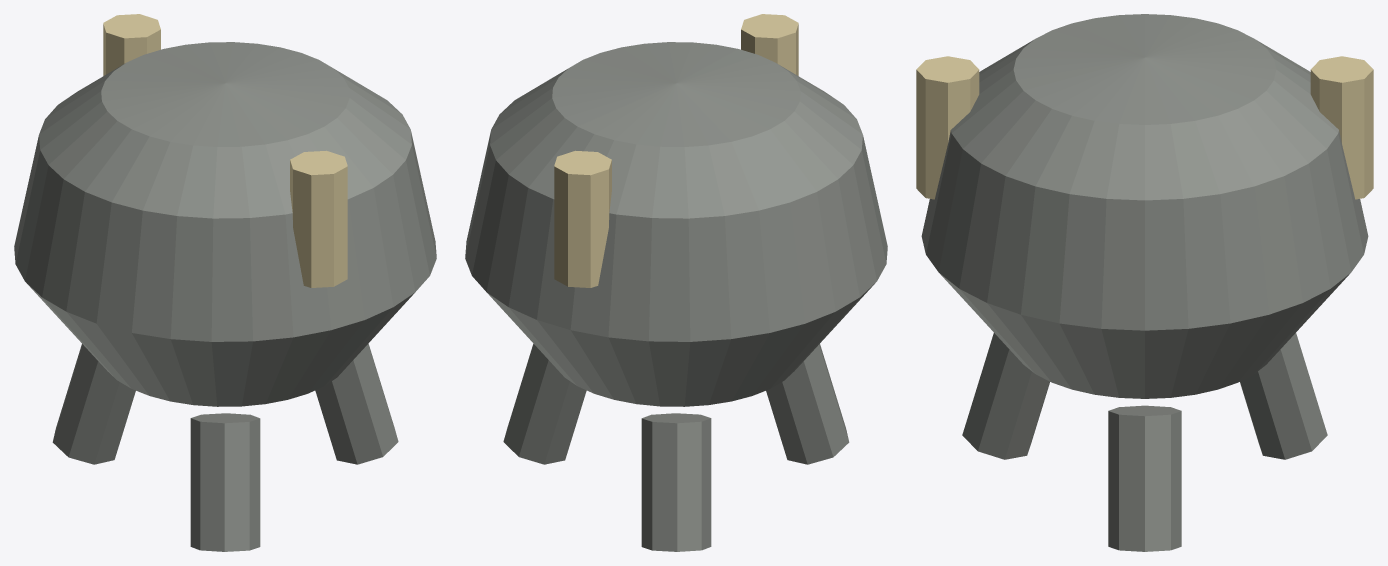
File: prop_bronze_incense_burner.glb
3 renders of one model, left to right at view 1: azimuth 30°, elevation 25°; view 2: azimuth 150°, elevation 25°; view 3: azimuth 270°, elevation 25°, orthographic. The views are drawn at different scales.
Visible parts, largest first — view 1: prop_bronze_incense_burner/incense_burner_body_00000, prop_bronze_incense_burner/incense_burner_leg_00003, prop_bronze_incense_burner/incense_burner_handle_00005, prop_bronze_incense_burner/incense_burner_leg_00002, prop_bronze_incense_burner/incense_burner_leg_00001, prop_bronze_incense_burner/incense_burner_handle_00004; view 2: prop_bronze_incense_burner/incense_burner_body_00000, prop_bronze_incense_burner/incense_burner_leg_00002, prop_bronze_incense_burner/incense_burner_handle_00004, prop_bronze_incense_burner/incense_burner_leg_00003, prop_bronze_incense_burner/incense_burner_leg_00001, prop_bronze_incense_burner/incense_burner_handle_00005; view 3: prop_bronze_incense_burner/incense_burner_body_00000, prop_bronze_incense_burner/incense_burner_leg_00001, prop_bronze_incense_burner/incense_burner_leg_00002, prop_bronze_incense_burner/incense_burner_leg_00003, prop_bronze_incense_burner/incense_burner_handle_00004, prop_bronze_incense_burner/incense_burner_handle_00005.
Part boxes in pixels (x1,y1,x2,y2): prop_bronze_incense_burner/incense_burner_body_00000: (14, 42, 436, 406); prop_bronze_incense_burner/incense_burner_leg_00003: (190, 413, 260, 551); prop_bronze_incense_burner/incense_burner_handle_00005: (290, 150, 347, 287); prop_bronze_incense_burner/incense_burner_leg_00002: (52, 344, 135, 464); prop_bronze_incense_burner/incense_burner_leg_00001: (315, 343, 398, 464); prop_bronze_incense_burner/incense_burner_handle_00004: (103, 14, 160, 75); prop_bronze_incense_burner/incense_burner_body_00000: (465, 42, 887, 406); prop_bronze_incense_burner/incense_burner_leg_00002: (641, 413, 711, 551); prop_bronze_incense_burner/incense_burner_handle_00004: (554, 150, 611, 287); prop_bronze_incense_burner/incense_burner_leg_00003: (766, 344, 849, 464); prop_bronze_incense_burner/incense_burner_leg_00001: (503, 343, 586, 464); prop_bronze_incense_burner/incense_burner_handle_00005: (741, 14, 798, 75); prop_bronze_incense_burner/incense_burner_body_00000: (921, 14, 1368, 398); prop_bronze_incense_burner/incense_burner_leg_00001: (1108, 405, 1181, 551); prop_bronze_incense_burner/incense_burner_leg_00002: (1240, 333, 1327, 459); prop_bronze_incense_burner/incense_burner_leg_00003: (962, 333, 1049, 459); prop_bronze_incense_burner/incense_burner_handle_00004: (1310, 56, 1373, 199); prop_bronze_incense_burner/incense_burner_handle_00005: (916, 56, 979, 199).
Bounding box in the file's own units: 0.17 × 0.179 × 0.174.
